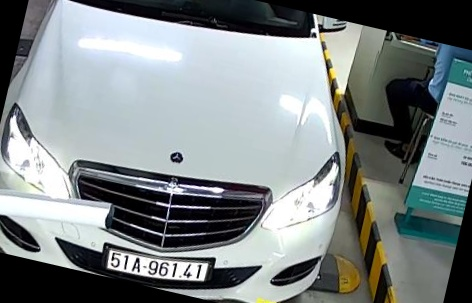plate: (103, 243, 219, 289)
